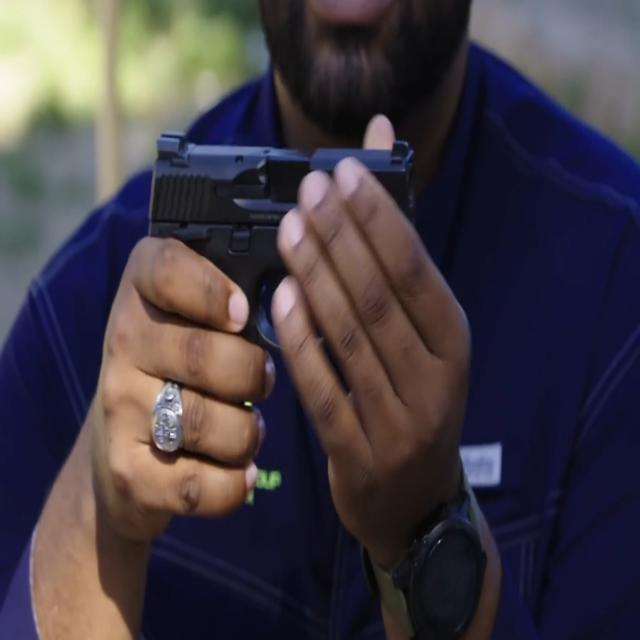handgun: (132, 109, 437, 432)
